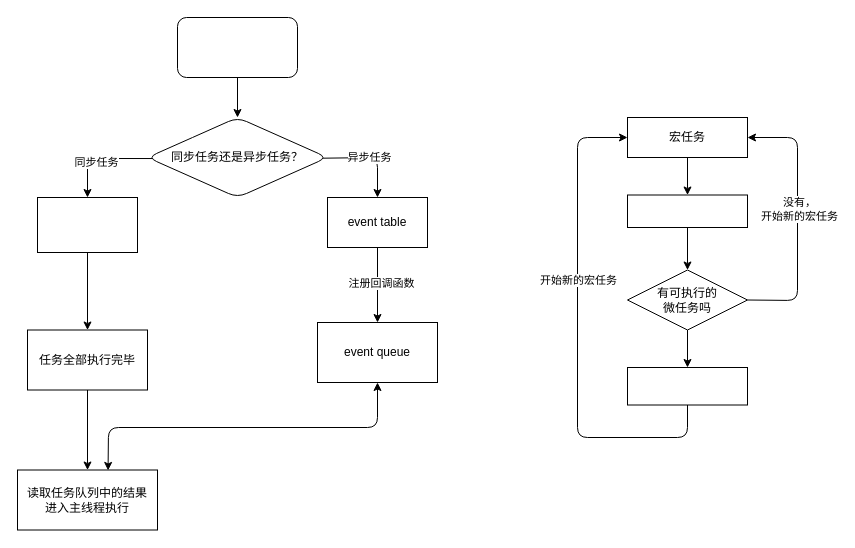
The diagram is 855 pixels wide and 548 high, and some of its shapes have lost their labels. The centre of each missing label's shape, as x and y in pixels:
"主线程" goes at pixel 87 224.
"任务进入执行栈" goes at pixel 237 47.
"执行所有微任务" goes at pixel 687 385.
"执行结束" goes at pixel 687 211.
